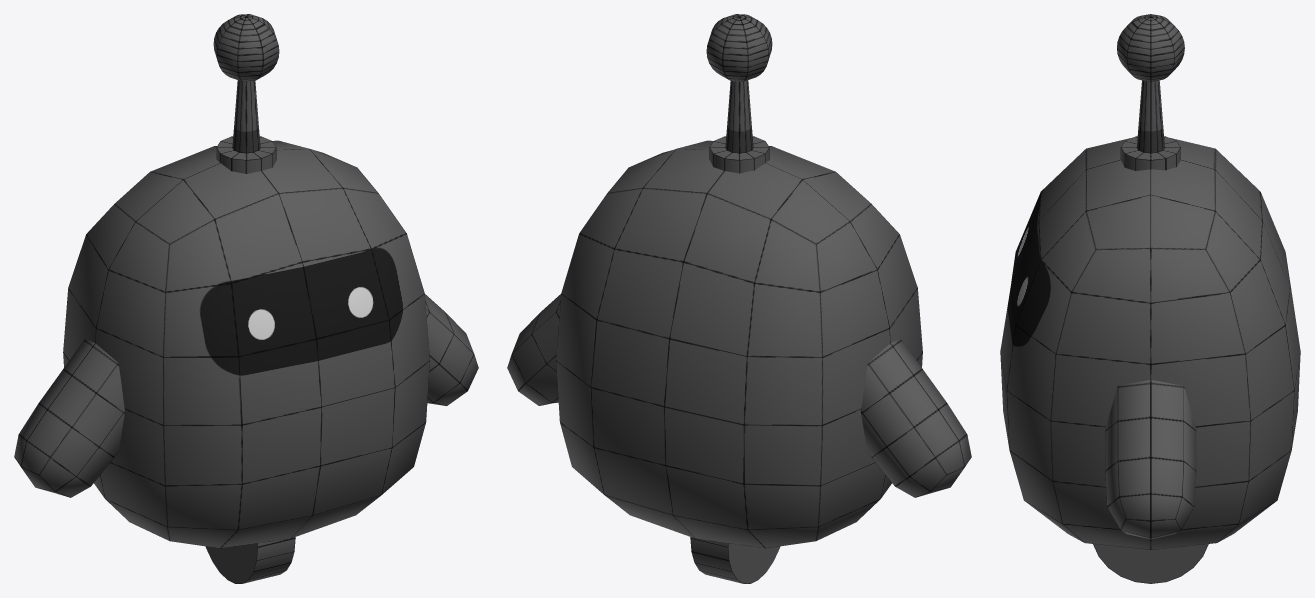
Rendered from robot.fbx.
3 views of the same model, side by side, from view 1: azimuth 30°, elevation 25°; view 2: azimuth 150°, elevation 25°; view 3: azimuth 270°, elevation 25° (orthographic).
Parts seen in each view (by area): view 1: RobotMesh; view 2: RobotMesh; view 3: RobotMesh.
Boxes of the visible parts, x1,y1,x2,y2 form: RobotMesh: (14,14,478,583); RobotMesh: (507,14,971,583); RobotMesh: (1000,14,1300,583).
Size of the model in its own units: 80.7 by 95.43 by 46.58.
